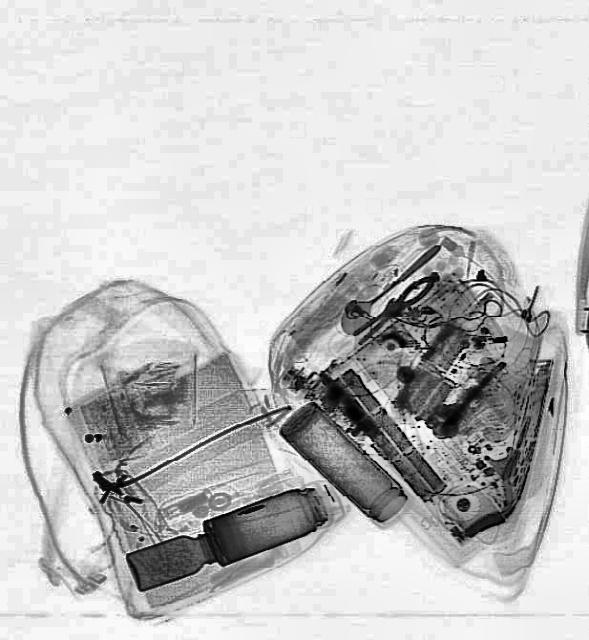Pliers: (347, 266, 441, 346)
